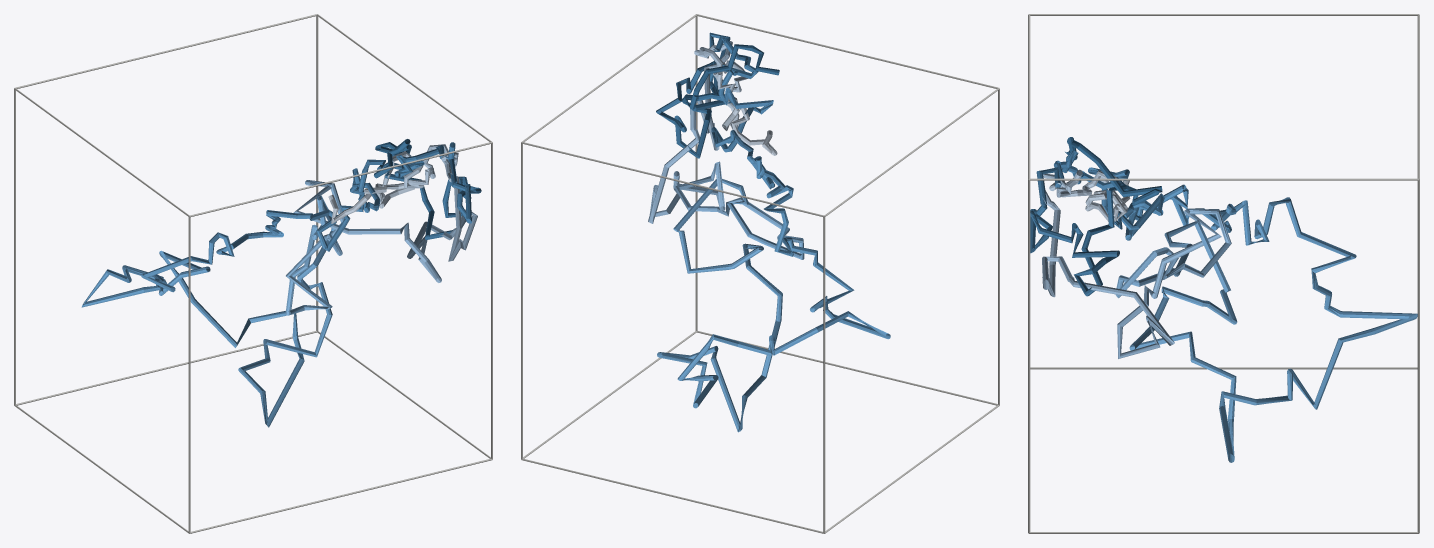
The picture shows the model from 3 angles, left to right: view 1: azimuth 30°, elevation 25°; view 2: azimuth 150°, elevation 25°; view 3: azimuth 270°, elevation 25°; orthographic projection. The views are drawn at different scales.
Parts seen in each view (by area): view 1: geometry_0, geometry_1; view 2: geometry_0, geometry_1; view 3: geometry_0, geometry_1.
Boxes of the visible parts, x1,y1,x2,y2 form: geometry_0: (81,139,481,427); geometry_1: (14,14,492,533); geometry_0: (648,32,890,432); geometry_1: (521,14,999,533); geometry_0: (1030,137,1417,462); geometry_1: (1028,14,1419,533).
Bounding box in the file's own units: 0.3016 × 0.3042 × 0.3016.
